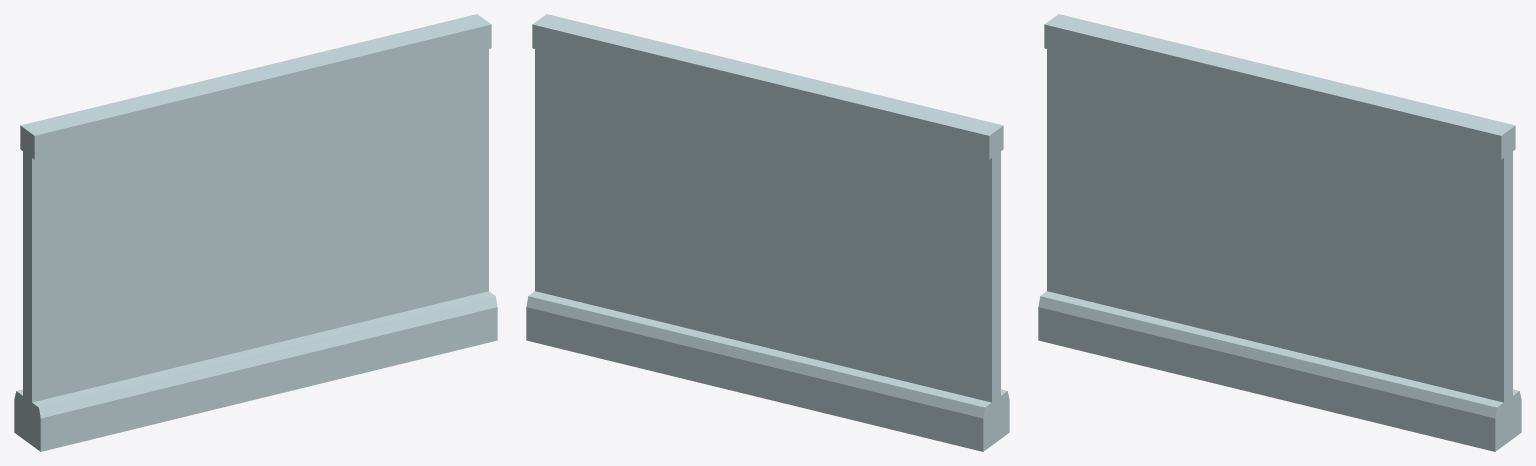
The model's file is stoneWall.glb.
3 views of the same model, side by side, from view 1: azimuth 30°, elevation 25°; view 2: azimuth 150°, elevation 25°; view 3: azimuth 330°, elevation 25° (orthographic).
Visible parts, largest first — view 1: stoneWall; view 2: stoneWall; view 3: stoneWall.
Part boxes in pixels (x1,y1,x2,y2): stoneWall: (14, 14, 497, 451); stoneWall: (526, 14, 1009, 451); stoneWall: (1038, 14, 1521, 451).
Size of the model in its own units: 1 by 0.6519 by 0.1.
